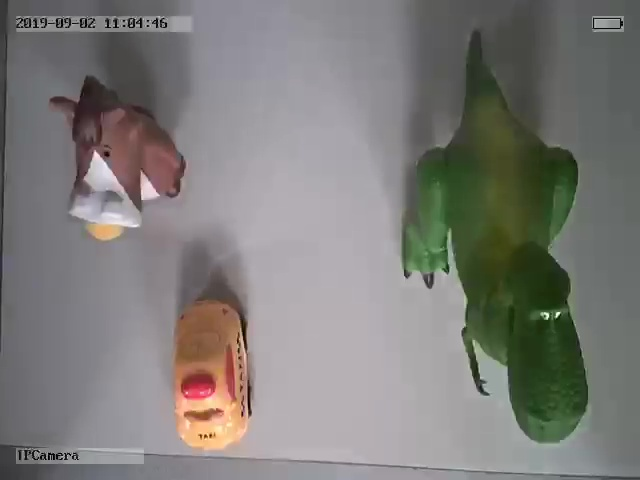car: (172, 294, 256, 451)
horse: (51, 76, 186, 240)
rex: (402, 57, 591, 446)
